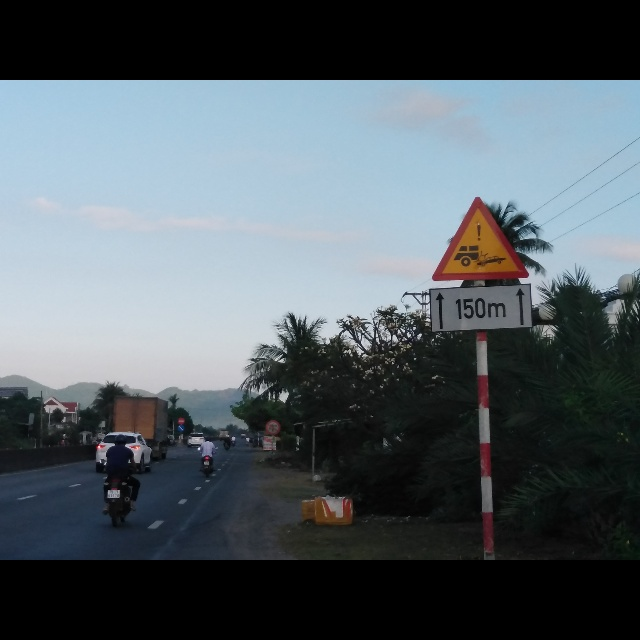Đoạn đường hay xảy ra tai nạn: (432, 195, 529, 282)
